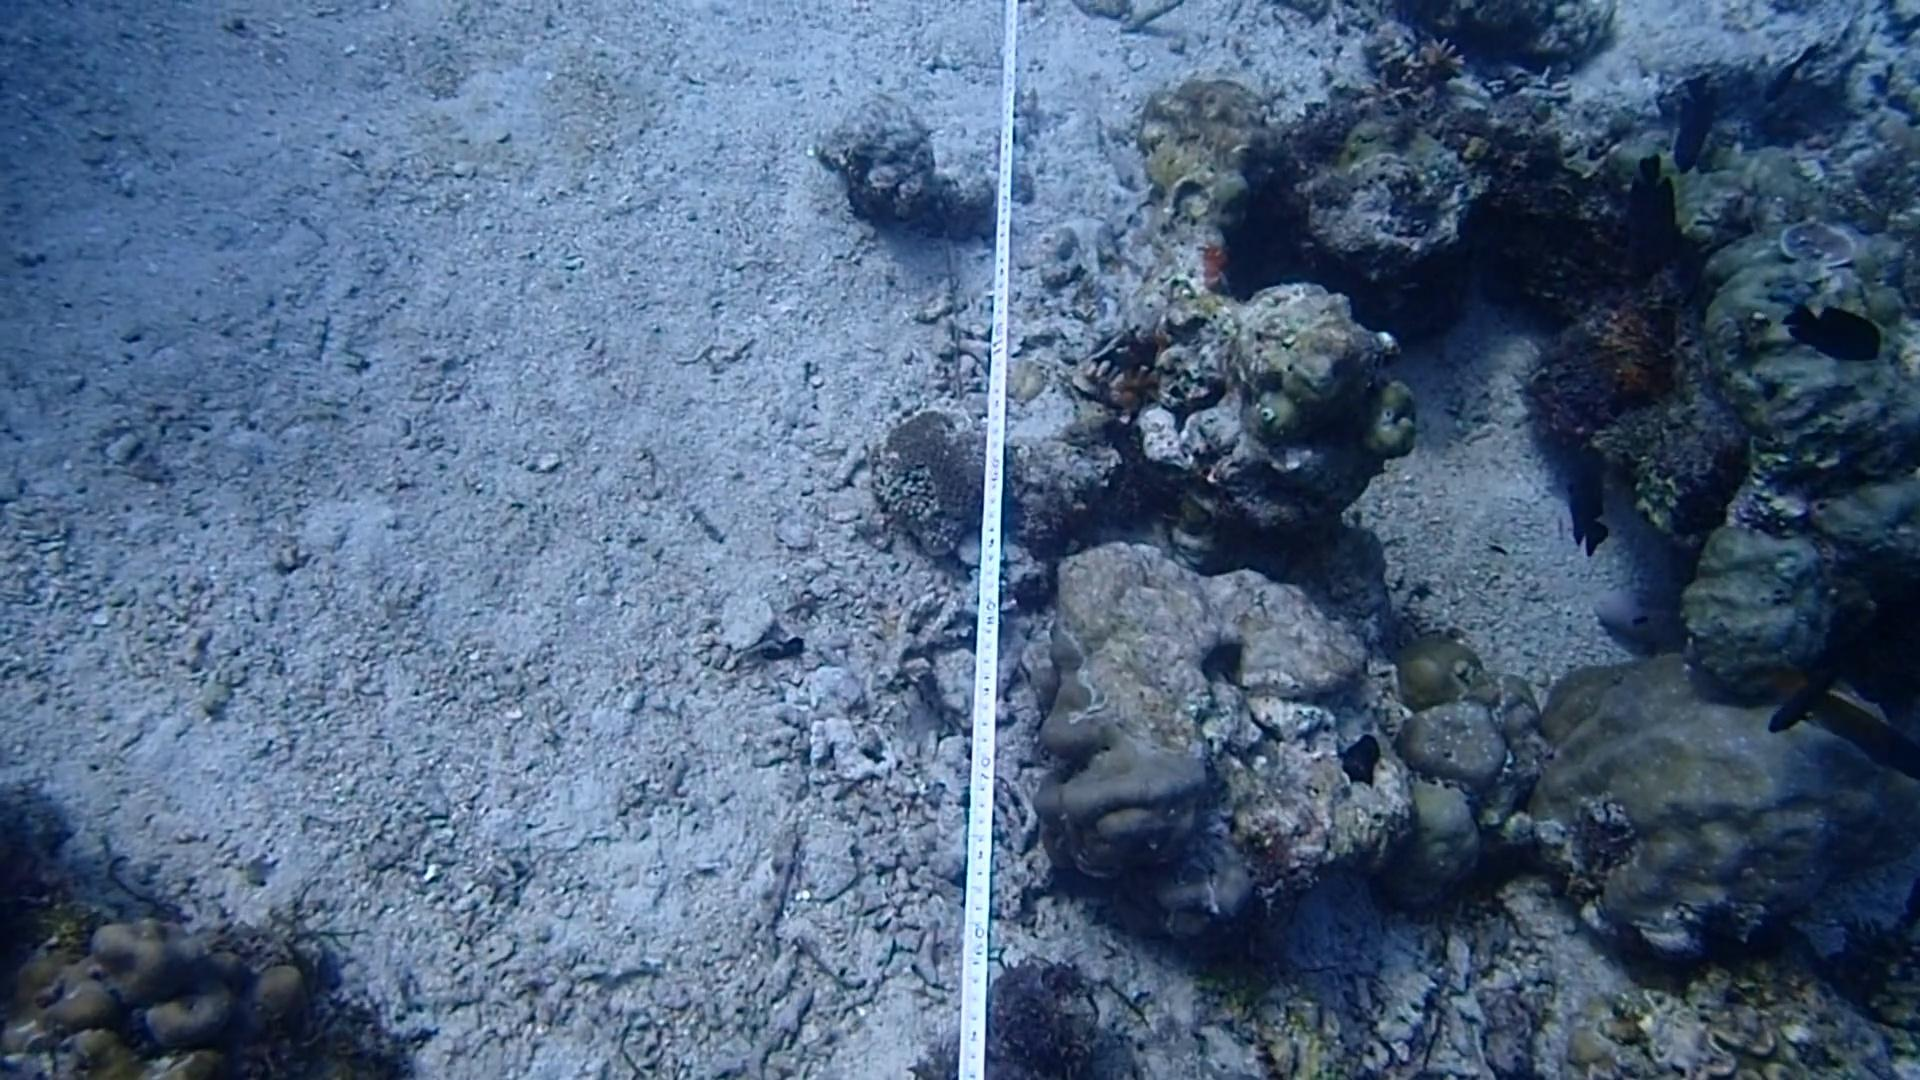Dark Fish: (1605, 146, 1695, 281), (1543, 444, 1633, 560), (1768, 287, 1883, 376), (1658, 65, 1729, 170), (1754, 653, 1845, 735), (1755, 28, 1816, 107)
Half Blue - Half Yellow: (1782, 653, 1920, 796)
